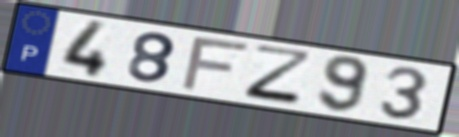3: (378, 66, 434, 122)
4: (59, 17, 112, 79)
8: (126, 30, 177, 85)
9: (314, 54, 371, 117)
F: (176, 36, 254, 93)
Z: (241, 43, 318, 109)
